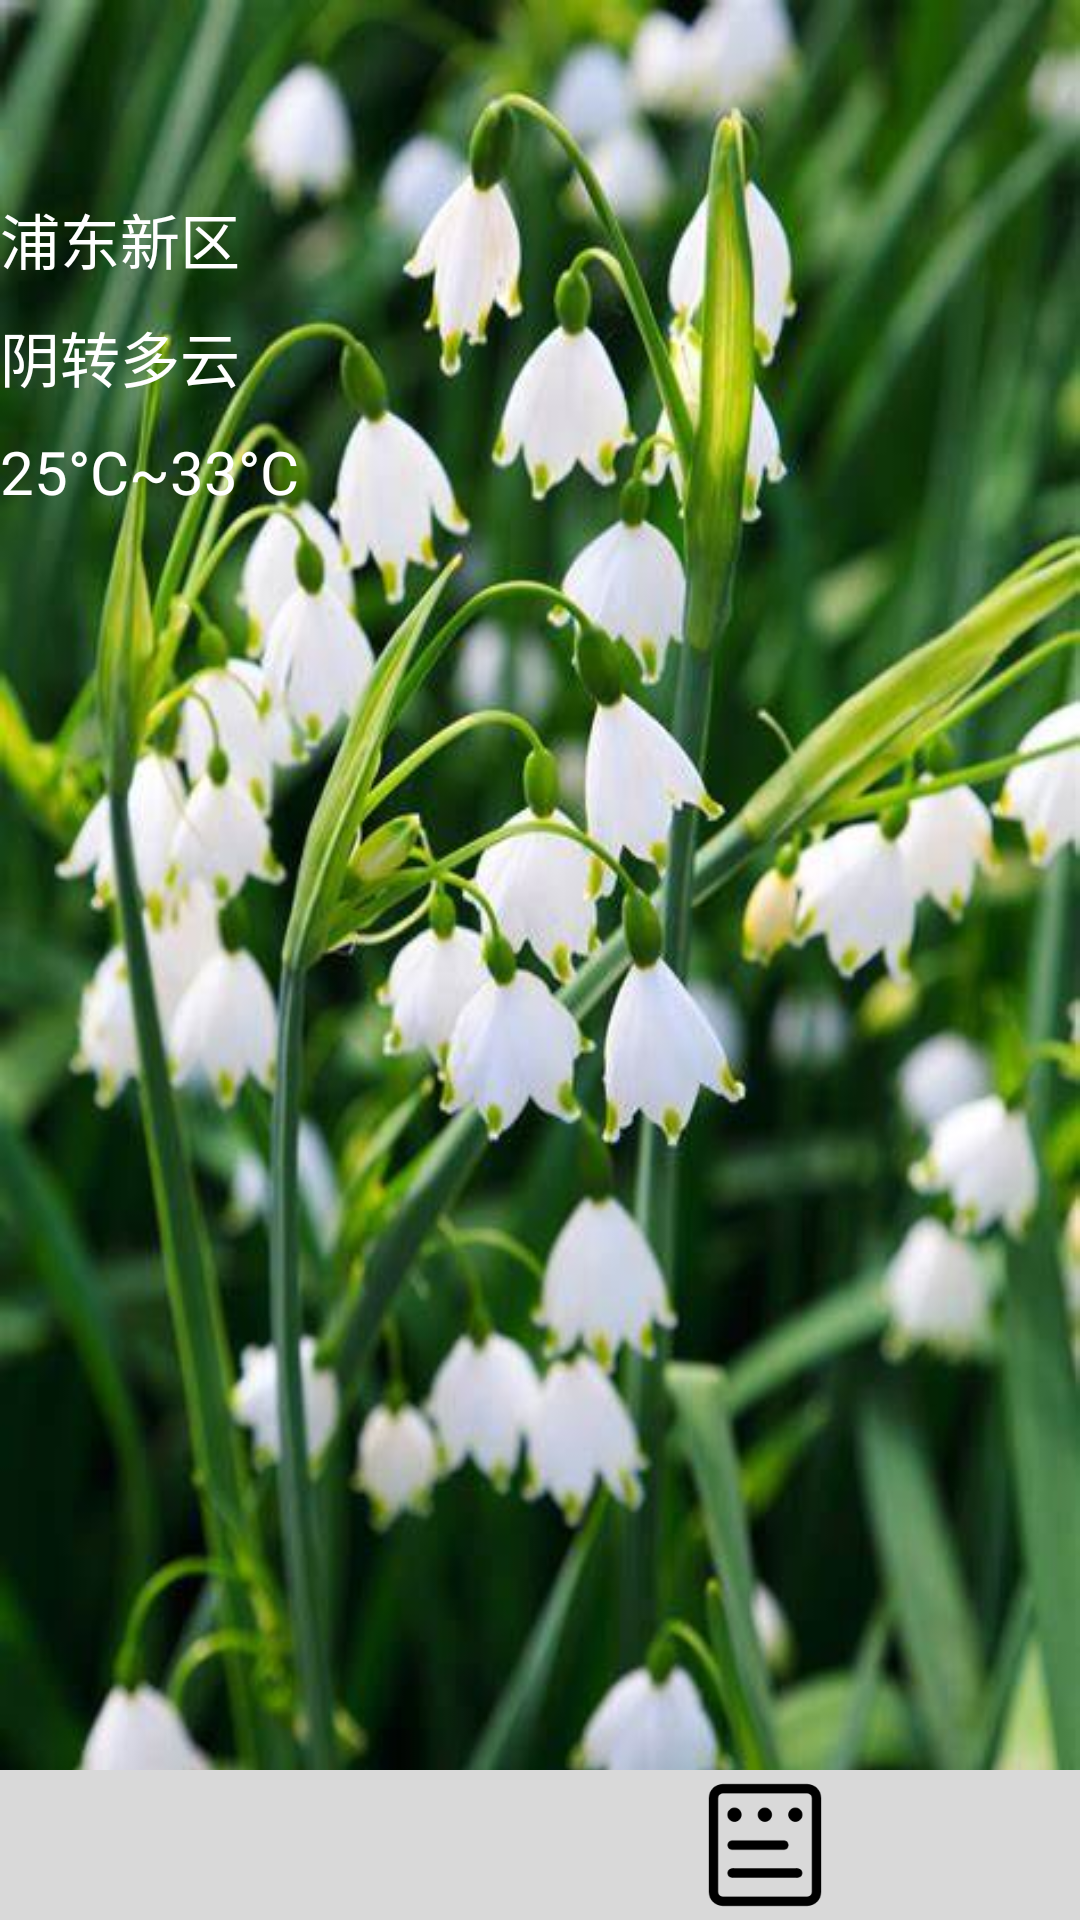

Locate icon controls on the screen. Image size 1080px x 1920px, boxes as BBox(x1, y1, x2, y2).
article: BBox(708, 1783, 822, 1907)
